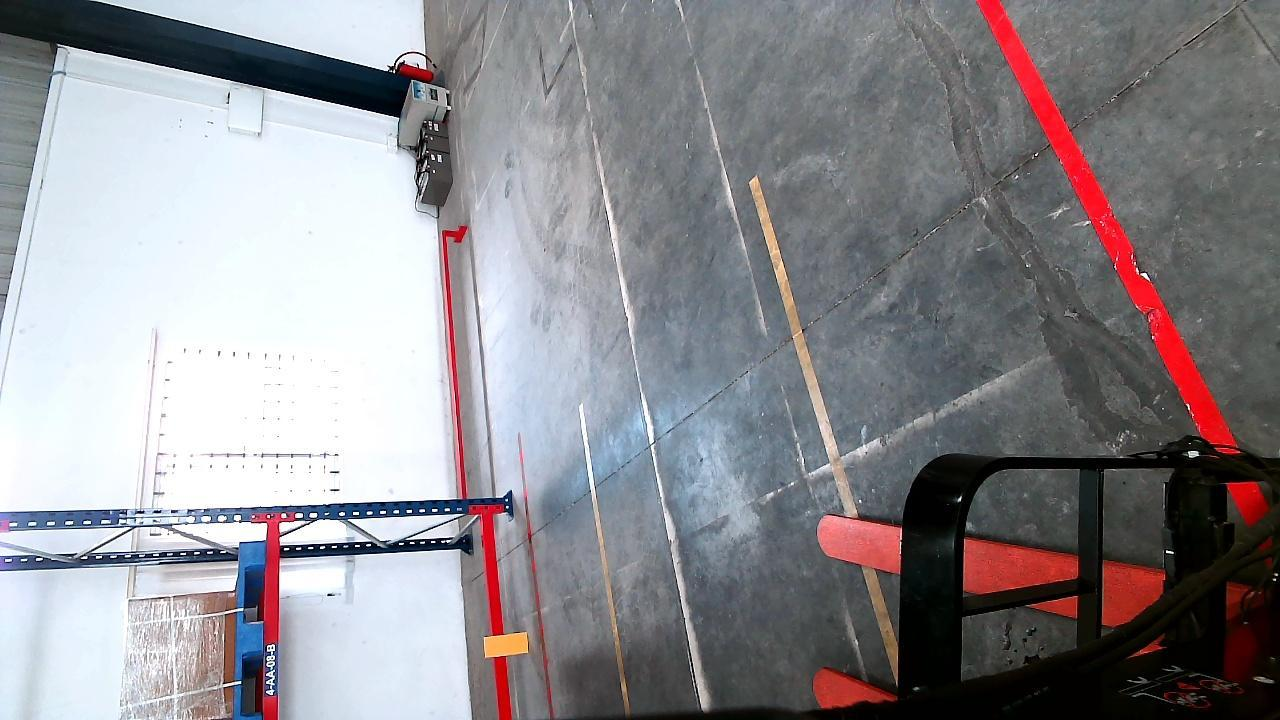red_line: (972, 1, 1256, 450)
yellow_line: (746, 175, 863, 508), (573, 404, 642, 715)
